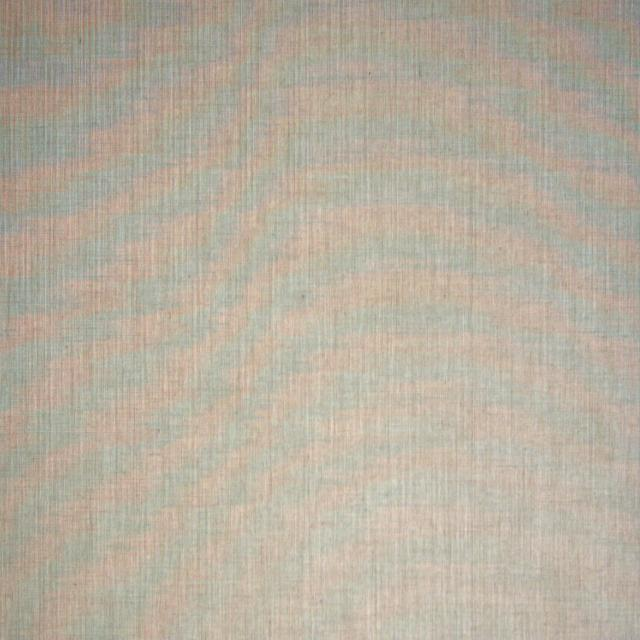dirty: (301, 292, 307, 301), (80, 37, 82, 46)
